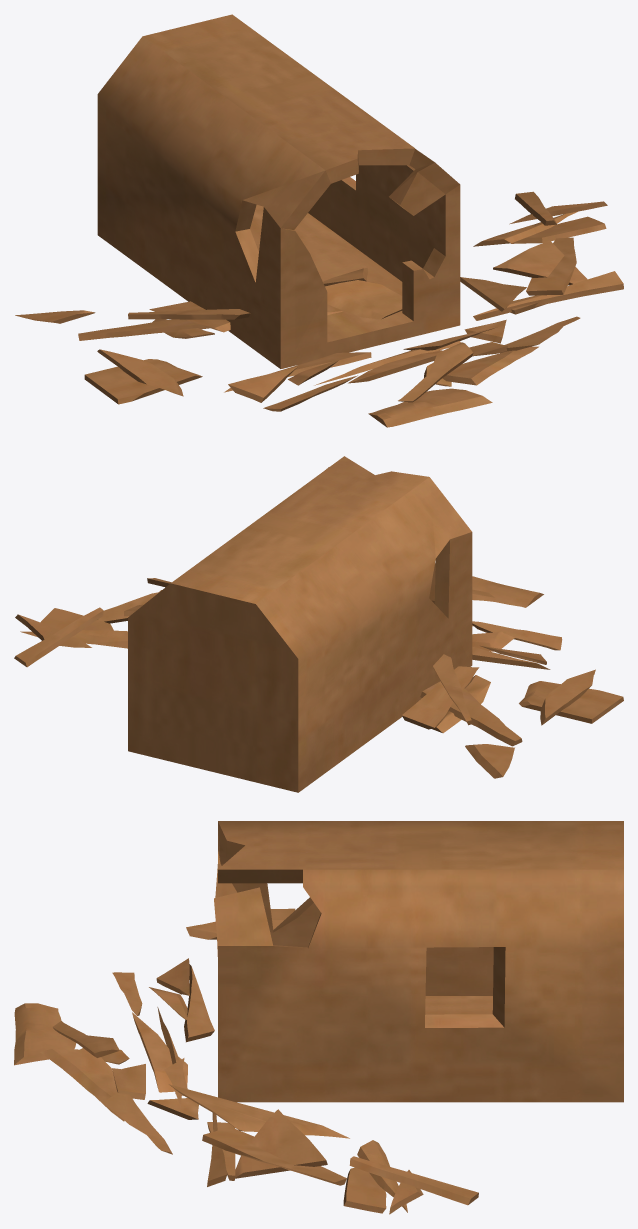
Rendered from house4.fbx.
3 renders of one model, top to bottom at view 1: azimuth 30°, elevation 25°; view 2: azimuth 150°, elevation 25°; view 3: azimuth 270°, elevation 25°, orthographic. The views are drawn at different scales.
Visible parts, largest first — view 1: shard15; view 2: shard15; view 3: shard15.
Boxes of the visible parts, x1,y1,x2,y2 form: shard15: (15,14,623,427); shard15: (14,456,623,792); shard15: (14,821,623,1214).
Bounding box in the file's own units: 1035 × 341 × 872.
Materials: 1 (1 with a texture image).
